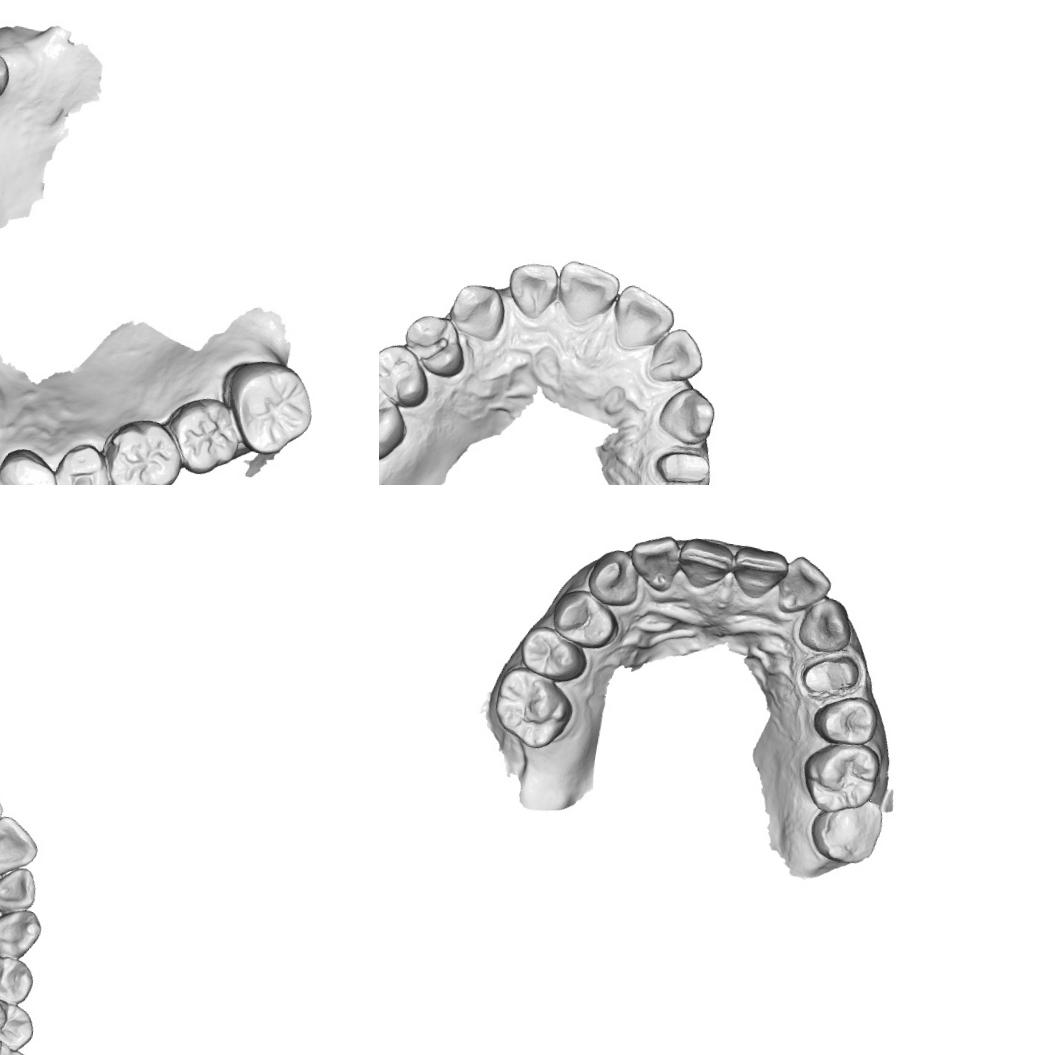canine: (582, 544, 649, 611), (654, 382, 720, 448), (792, 592, 858, 656), (446, 279, 508, 344), (0, 899, 47, 964)
crown: (796, 648, 866, 702), (646, 444, 713, 485)
incisor: (607, 280, 679, 357), (551, 258, 623, 330), (774, 551, 838, 621), (670, 532, 738, 595), (623, 529, 687, 595), (645, 323, 708, 388), (725, 541, 790, 604), (503, 257, 560, 322), (0, 809, 46, 885), (0, 858, 43, 916)
molar: (212, 356, 320, 462), (487, 662, 579, 754), (163, 391, 251, 481), (795, 734, 886, 821), (804, 790, 888, 870), (100, 413, 188, 485), (379, 373, 413, 466)
premolar: (514, 621, 594, 686), (398, 310, 472, 380), (549, 586, 623, 654), (809, 689, 883, 752), (379, 338, 435, 410), (47, 438, 117, 485), (0, 444, 66, 485), (0, 950, 41, 1010), (0, 995, 38, 1053)
